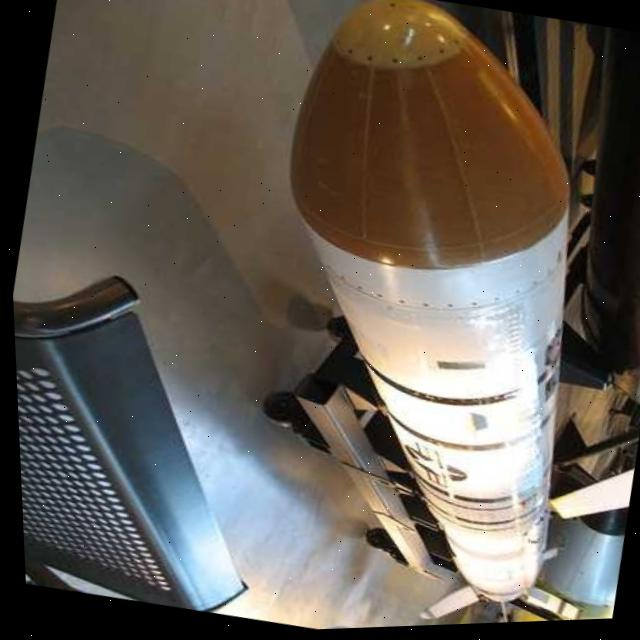missile: (206, 0, 640, 634)
